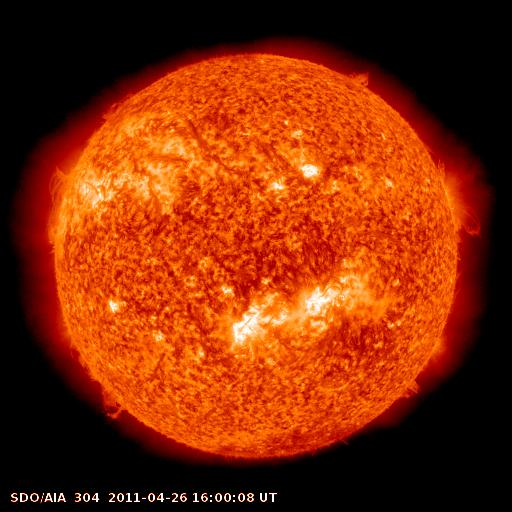prominence: (40, 161, 80, 253), (97, 84, 141, 126), (68, 333, 103, 385), (385, 370, 428, 406), (340, 60, 381, 97), (452, 207, 490, 245), (100, 384, 130, 423)
